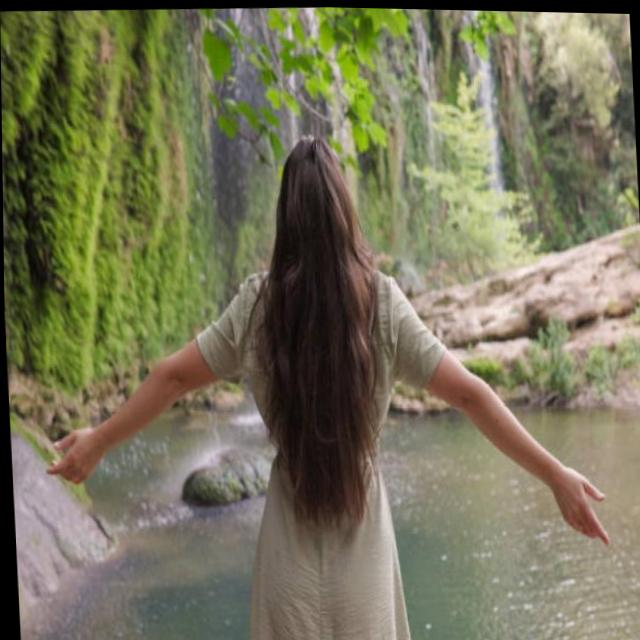no helmet: (251, 129, 369, 361)
